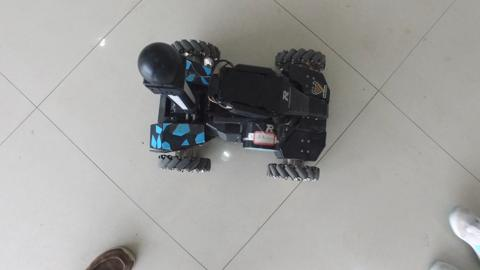chariot: (134, 40, 323, 183)
